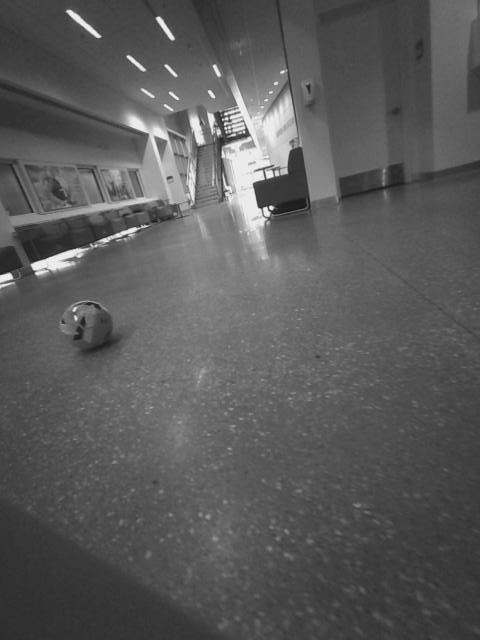ball: (55, 297, 117, 354)
